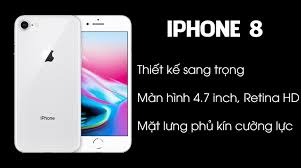iphone: (12, 12, 82, 155)
iphone8: (10, 12, 133, 153)
